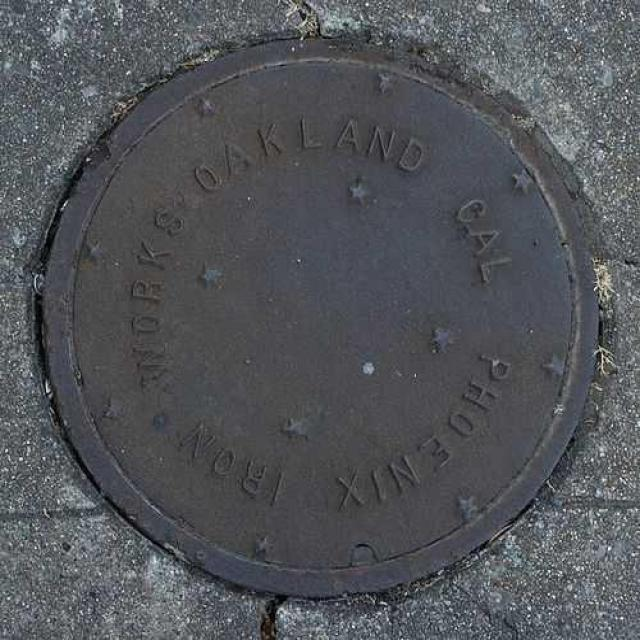manhole: (35, 39, 600, 605)
